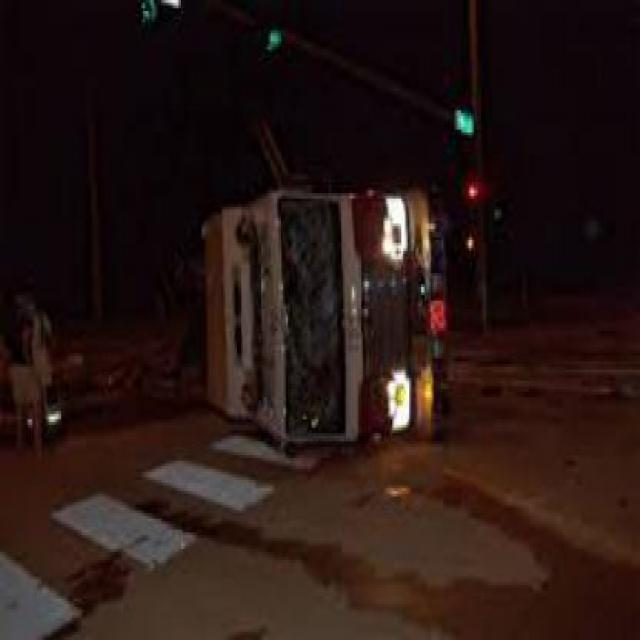accident: (185, 146, 469, 466)
